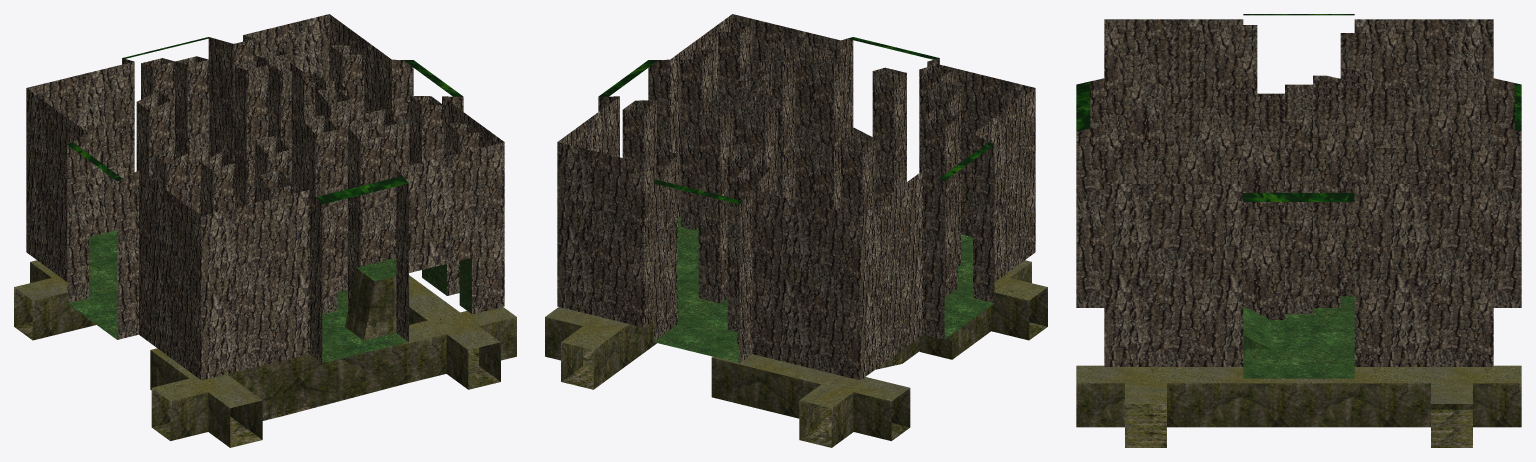
Rendered from woods0cell.gltf.
The picture shows the model from 3 angles, left to right: view 1: azimuth 30°, elevation 25°; view 2: azimuth 150°, elevation 25°; view 3: azimuth 270°, elevation 25°; orthographic projection. The views are drawn at different scales.
Visible parts, largest first — view 1: woods0cell; view 2: woods0cell; view 3: woods0cell.
Part boxes in pixels (bbox=[...]): woods0cell: bbox=[14, 14, 516, 447]; woods0cell: bbox=[545, 14, 1047, 447]; woods0cell: bbox=[1076, 14, 1521, 447].
Size of the model in its own units: 32 by 26 by 32.
10 materials, 10 textured.
